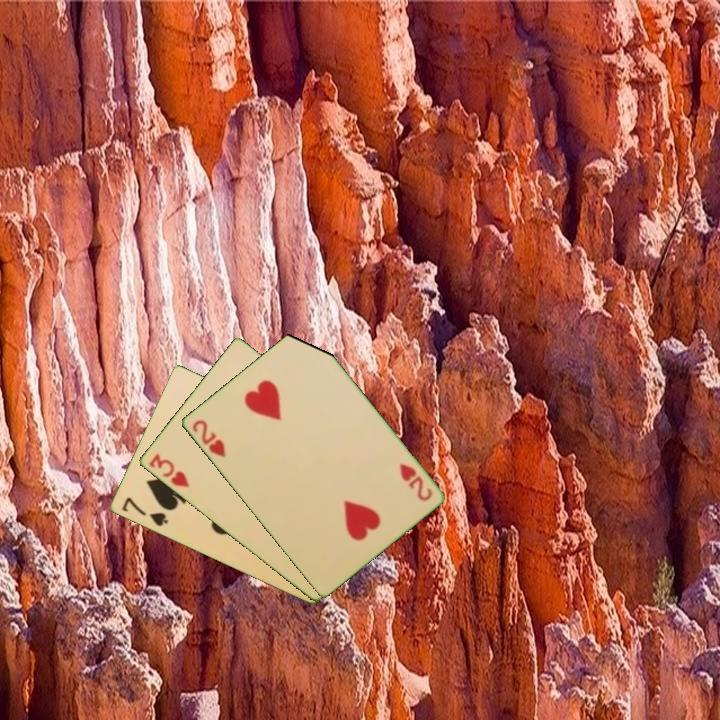2h: (188, 416, 228, 460), (395, 460, 435, 504)
3h: (145, 450, 192, 491)
7s: (118, 493, 171, 530)
